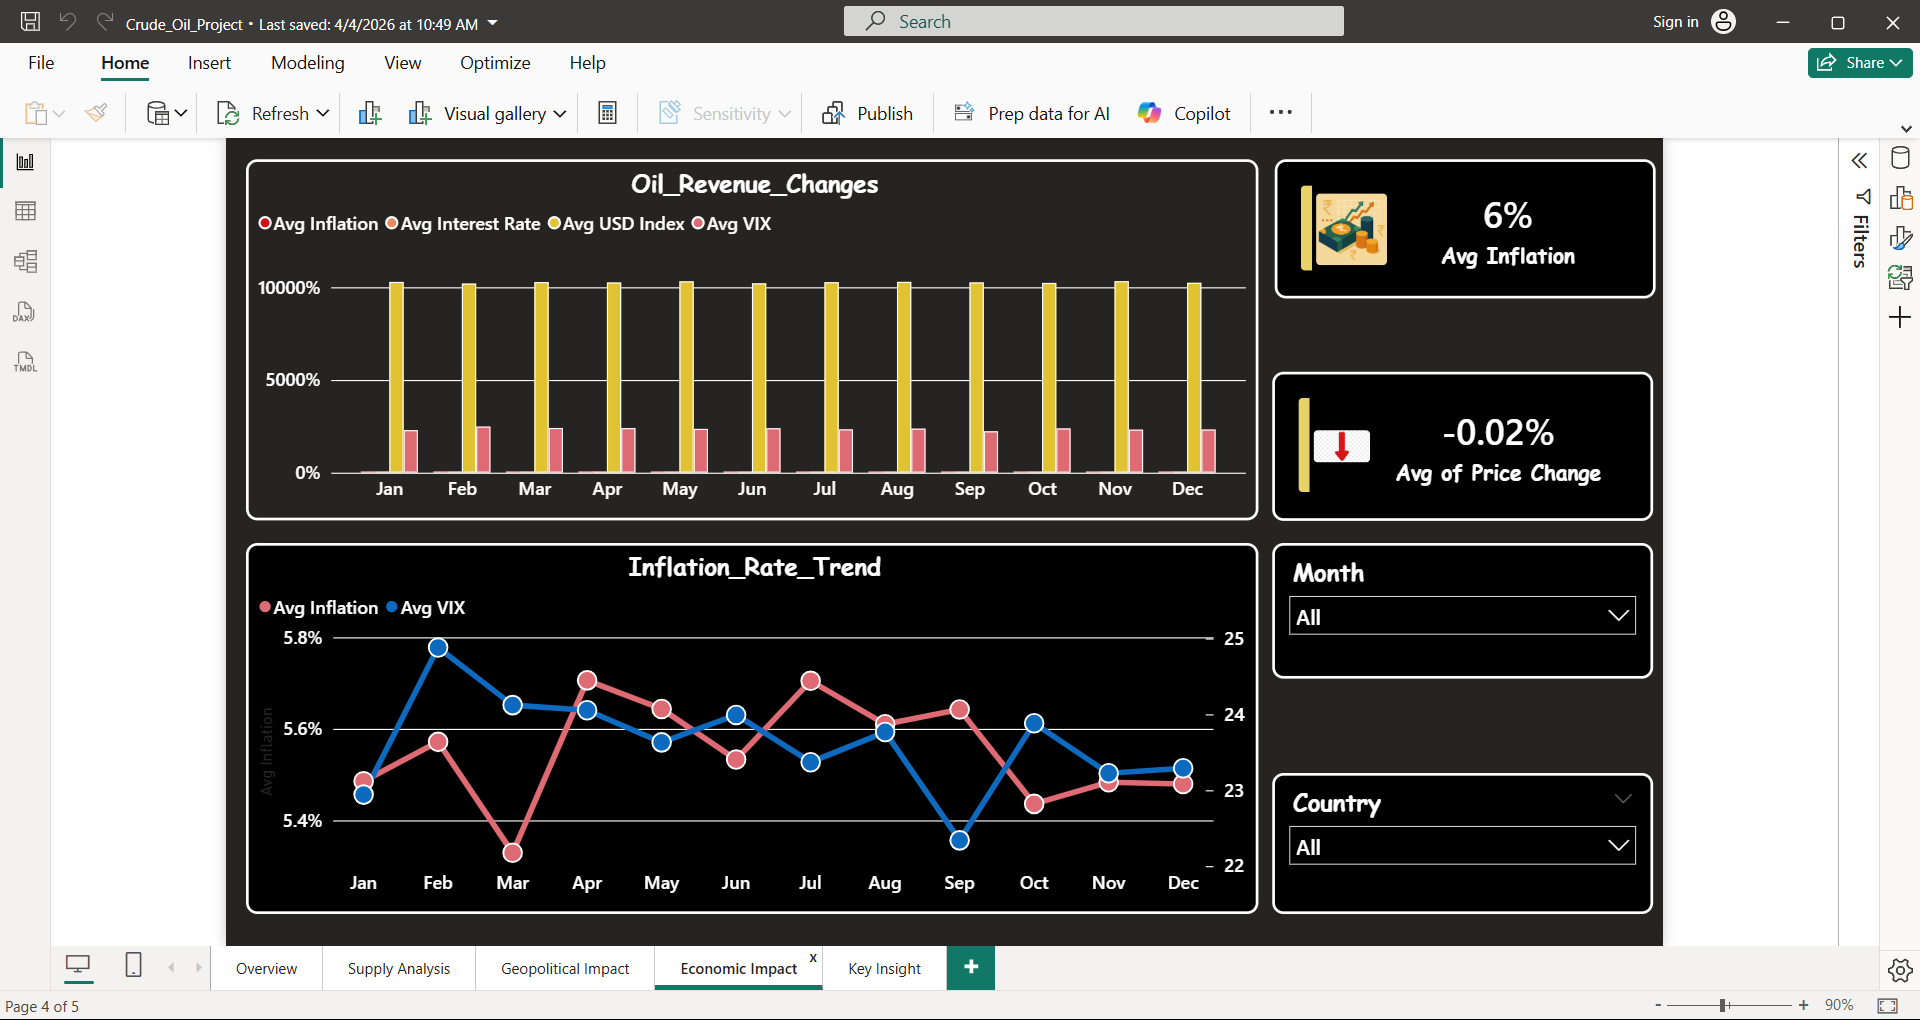

This screenshot's page, from the dashboard's own definition file:
{"tool":"powerbi","page":{"name":"Economic Impact","canvas":[1280,720],"ordinal":3},"visuals":[{"type":"clusteredColumnChart","title":"Oil_Revenue_Changes","fields":{"Category":["Date_Table.Month"],"Y":["Economic_Indicators.Avg Inflation","Economic_Indicators.Avg Interest Rate","Economic_Indicators.Avg USD Index","Economic_Indicators.Avg VIX"]},"box":[17.3,18.8,901.7,321.7],"z":0},{"type":"lineChart","title":"Inflation_Rate_Trend","fields":{"Y":["Economic_Indicators.Avg Inflation"],"Y2":["Economic_Indicators.Avg VIX"],"Category":["Date_Table.Month"]},"box":[17.3,360.7,901.7,330.4],"z":1000},{"type":"cardVisual","fields":{"Data":["Economic_Indicators.Avg Inflation"]},"box":[933.5,18.8,339,124.1],"z":2000},{"type":"cardVisual","fields":{"Data":["Avg(Oil_Prices.Price Change %)"]},"box":[932,207.8,339,132.7],"z":3000},{"type":"slicer","fields":{"Values":["Date_Table.Month"]},"box":[932,360.7,339,121.2],"z":4000},{"type":"slicer","fields":{"Values":["Supply_Demand.Country"]},"box":[932,565.6,339,125.5],"z":5000}]}

Visuals, with their boxes on the page's 1280x720 design canvas (x1, y1, x2, y2). These are canvas units, not pixel positions in the 1920x1020 screenshot, which may show the page scaled, cropped or inside an application window:
"Oil_Revenue_Changes" clusteredColumnChart: (x1=17, y1=19, x2=919, y2=340)
"Inflation_Rate_Trend" lineChart: (x1=17, y1=361, x2=919, y2=691)
cardVisual - Economic_Indicators.Avg Inflation: (x1=934, y1=19, x2=1272, y2=143)
cardVisual - Avg(Oil_Prices.Price Change %): (x1=932, y1=208, x2=1271, y2=340)
slicer - Date_Table.Month: (x1=932, y1=361, x2=1271, y2=482)
slicer - Supply_Demand.Country: (x1=932, y1=566, x2=1271, y2=691)
